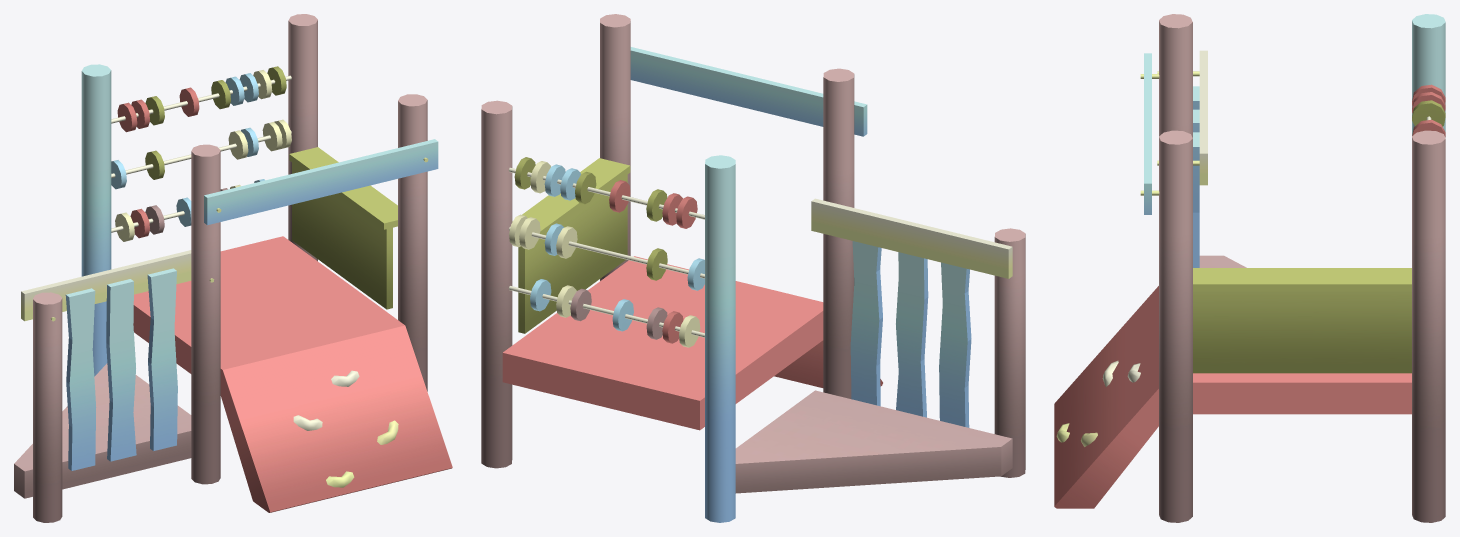
File: wooden_playground.glb
The picture shows the model from 3 angles, left to right: view 1: azimuth 30°, elevation 25°; view 2: azimuth 150°, elevation 25°; view 3: azimuth 270°, elevation 25°; orthographic projection. The views are drawn at different scales.
Visible parts, largest first — view 1: plac_zabaw_Material #37_0; view 2: plac_zabaw_Material #37_0; view 3: plac_zabaw_Material #37_0.
Part boxes in pixels (box(x1,y1,x2,y2)): plac_zabaw_Material #37_0: box(14, 14, 452, 522); plac_zabaw_Material #37_0: box(481, 14, 1025, 522); plac_zabaw_Material #37_0: box(1054, 14, 1445, 522).
Bounding box in the file's own units: 150 × 120 × 113.
1 material, 1 textured.
